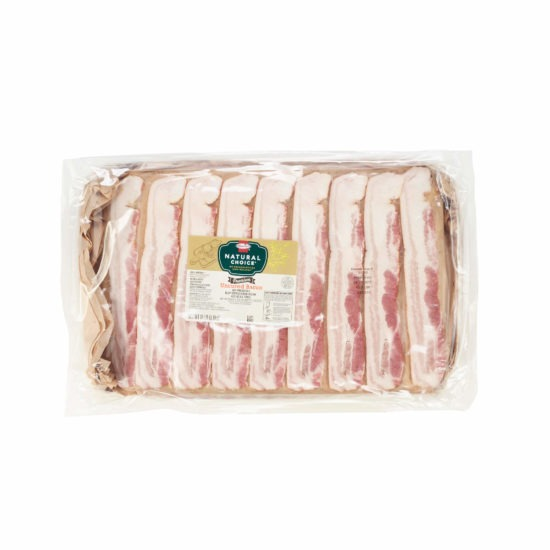bacon: (98, 165, 481, 396)
